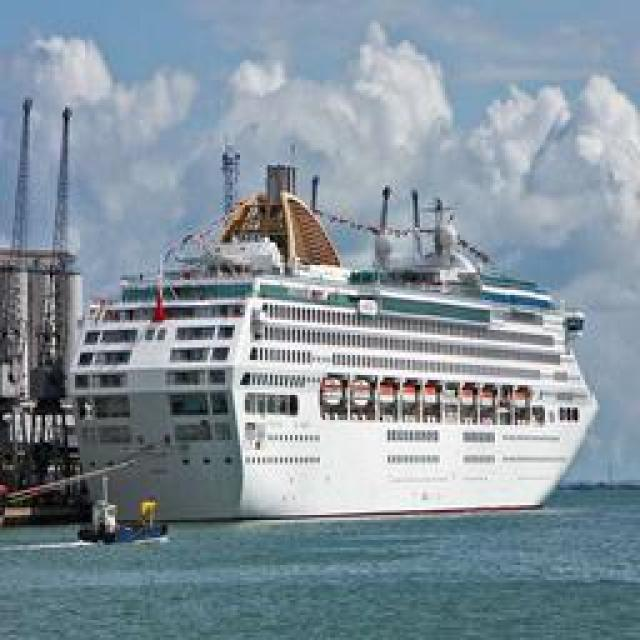CIV_Ship: (52, 174, 600, 524)
